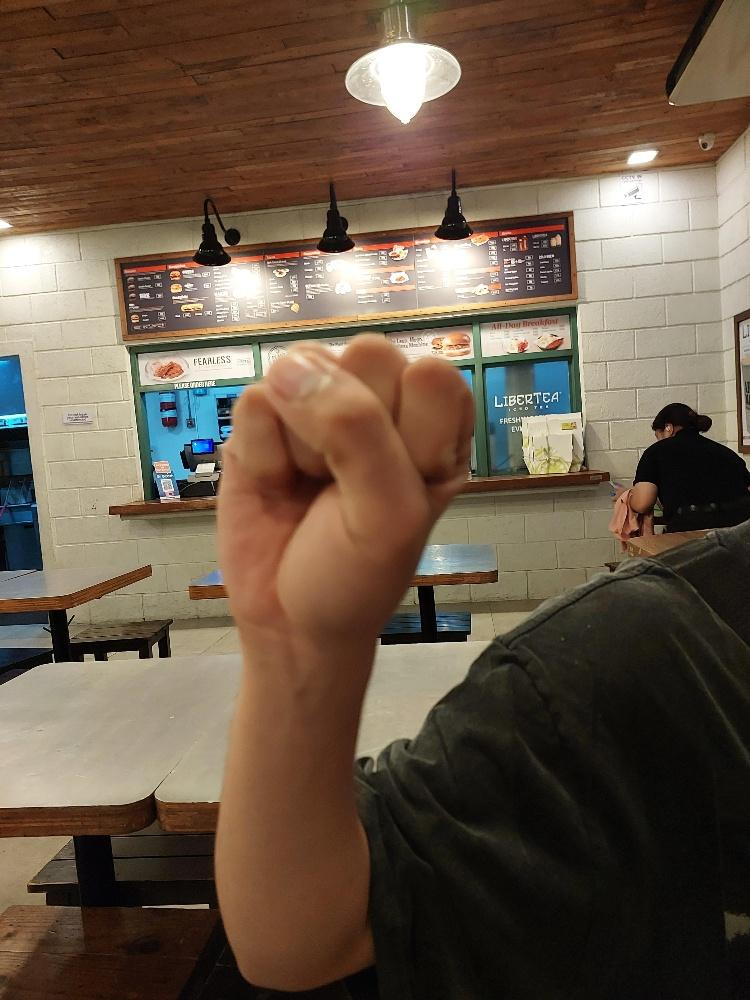s: (213, 330, 478, 641)
